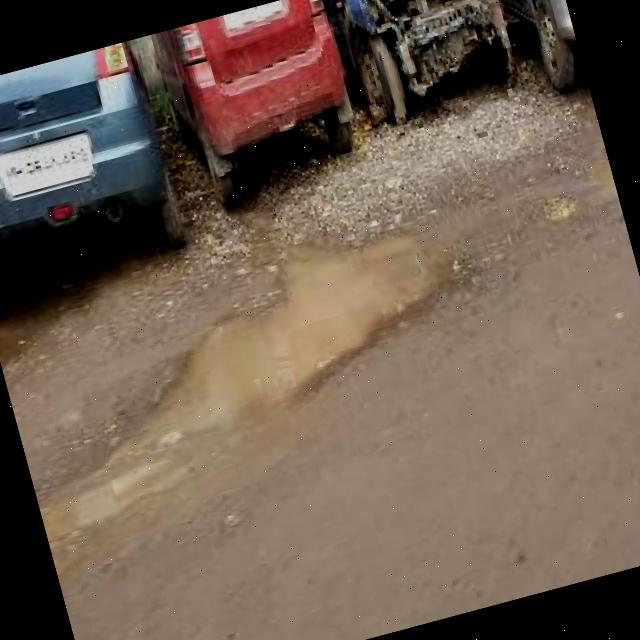stagnation: (39, 205, 483, 581)
